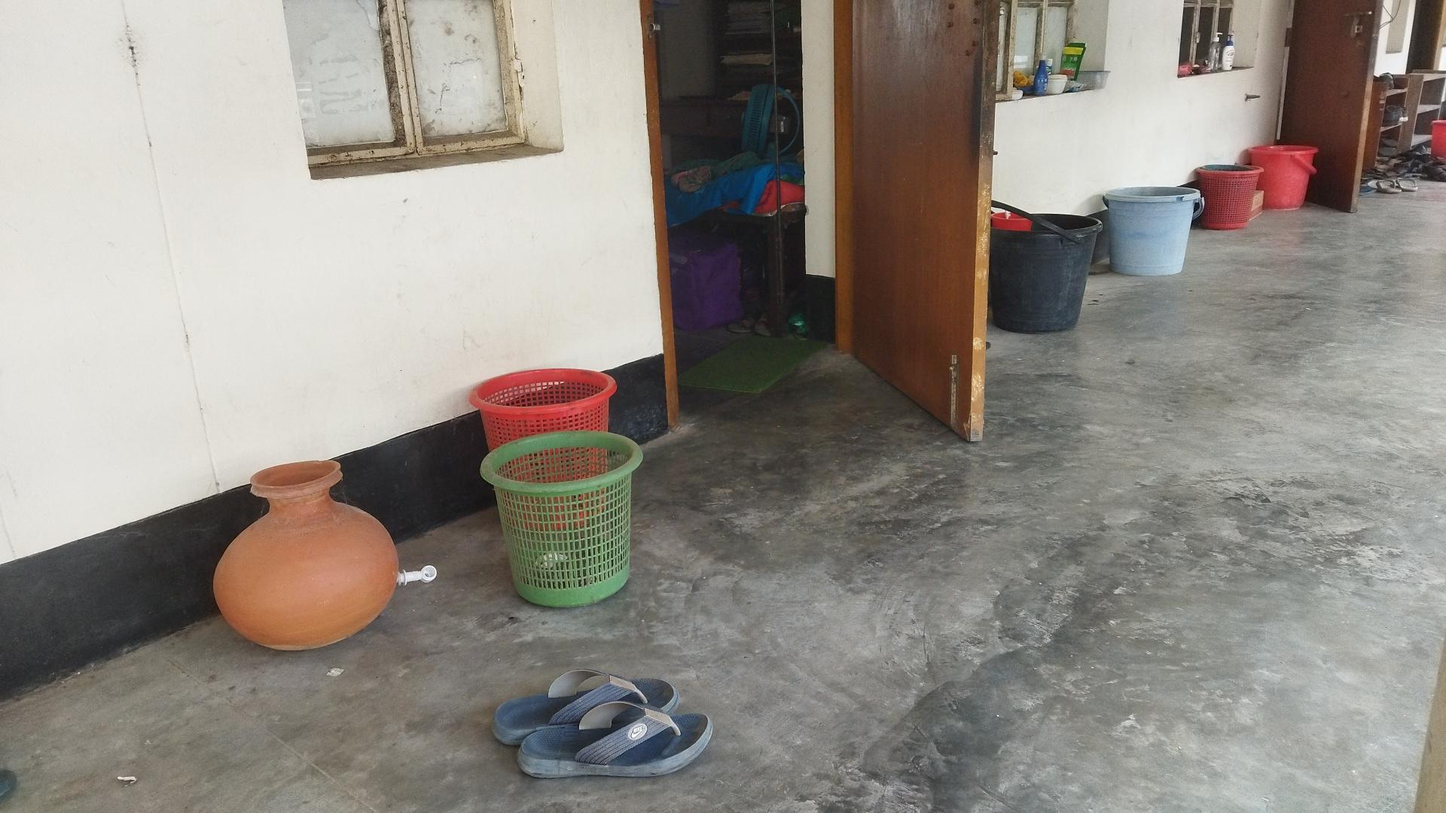Basket: (465, 429, 649, 606), (458, 367, 623, 529), (1188, 144, 1264, 239)
Bucket: (991, 208, 1100, 340), (1103, 180, 1192, 284), (1252, 129, 1325, 220)
Door: (834, 0, 1012, 431)
Floor Mat: (681, 330, 834, 399)
Footwear: (484, 677, 717, 789)
